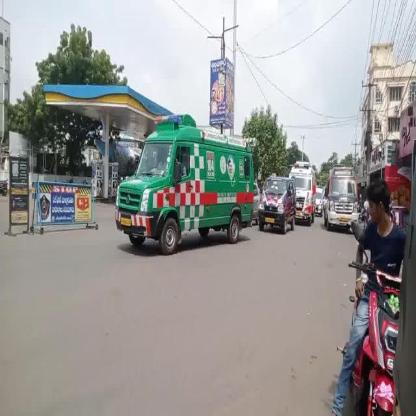priority: (110, 117, 268, 256), (324, 161, 362, 239), (289, 166, 316, 228), (272, 166, 290, 233)
